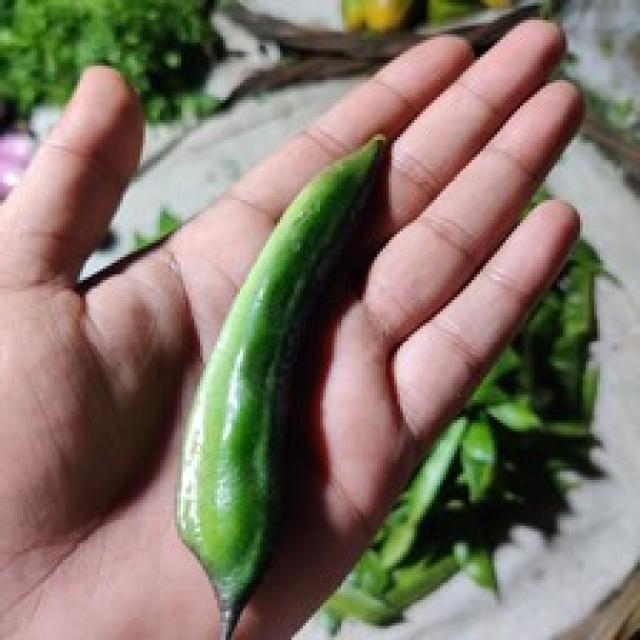Bean: (172, 132, 388, 637)
